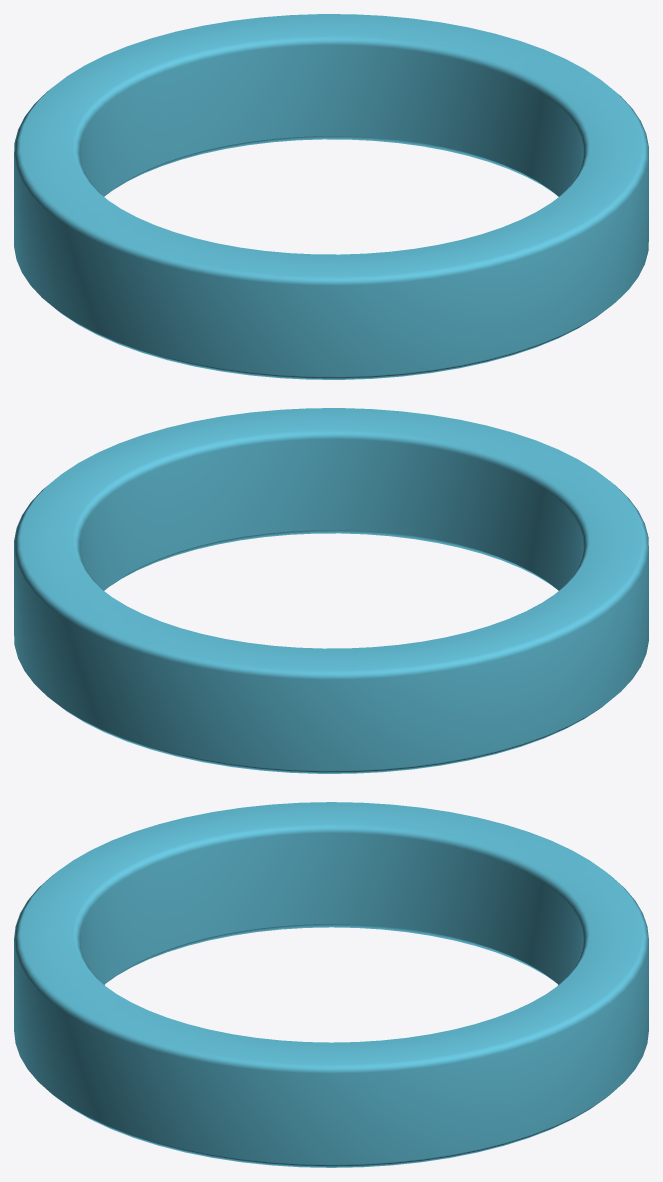
The picture shows the model from 3 angles, top to bottom: view 1: azimuth 30°, elevation 25°; view 2: azimuth 150°, elevation 25°; view 3: azimuth 270°, elevation 25°; orthographic projection.
Visible parts, largest first — view 1: seal_body; view 2: seal_body; view 3: seal_body.
Part boxes in pixels (x1,y1,x2,y2): seal_body: (14, 14, 648, 379); seal_body: (14, 408, 648, 773); seal_body: (14, 802, 648, 1167).
Size of the model in its own units: 0.039 by 0.007 by 0.039.
